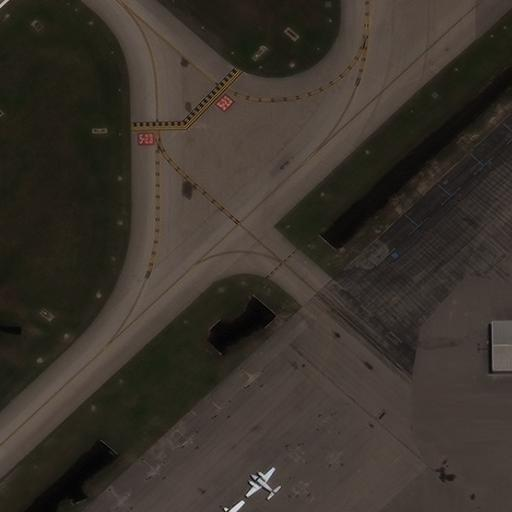Small Civil Transport: (244, 467, 275, 495), (221, 500, 241, 511)
